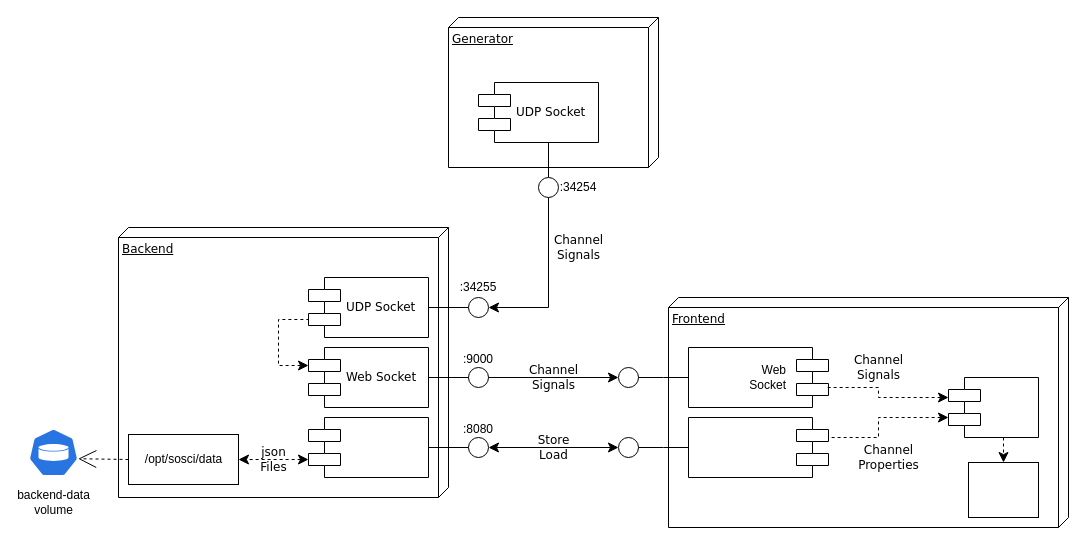
Some shapes in this 1086 by 545 pixel diagram are drawn without their labels. Each missing label, with the centre of its shape:
"Channel Configuration" goes at point (758, 447).
"REST API" goes at point (368, 447).
"Store" goes at point (993, 407).
"WebGL Canvas" goes at point (1003, 490).
